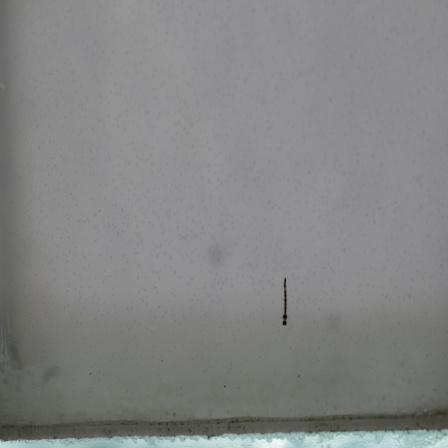Jentik-Nyamuk: (276, 274, 296, 330)
